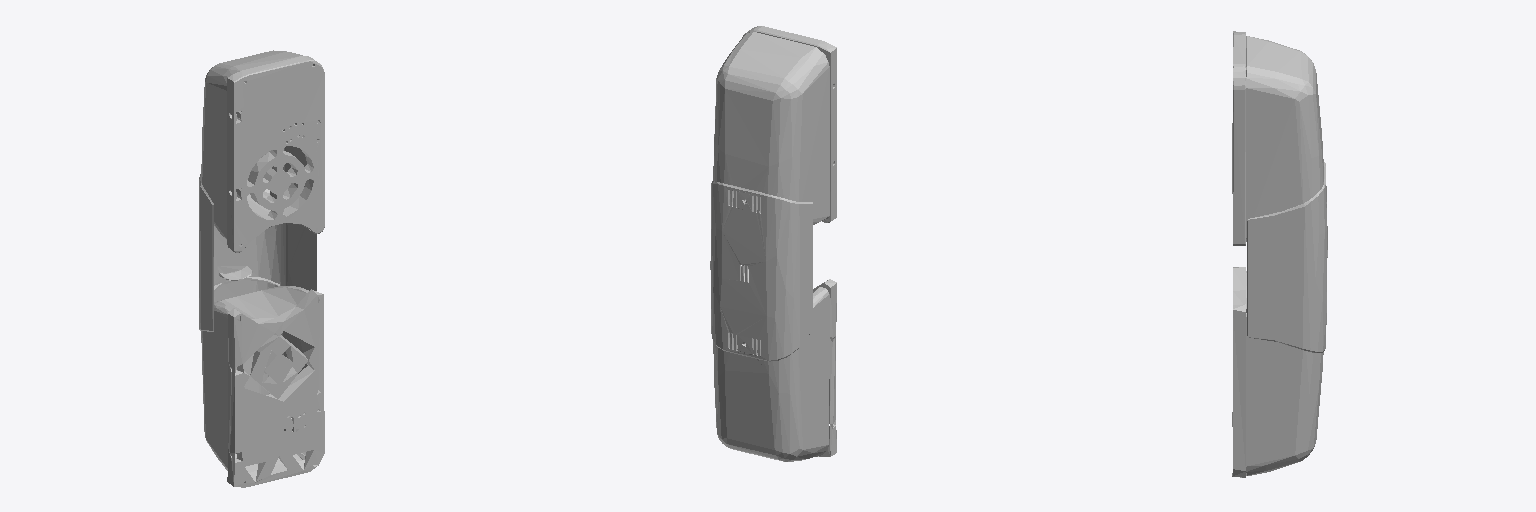
File: right_foam.obj
3 views of the same model, side by side, from view 1: azimuth 30°, elevation 25°; view 2: azimuth 150°, elevation 25°; view 3: azimuth 270°, elevation 25° (orthographic).
Parts seen in each view (by area): view 1: right_foam; view 2: right_foam; view 3: right_foam.
Boxes of the visible parts, <box> form: right_foam: <box>199,50,324,487</box>; right_foam: <box>710,26,836,461</box>; right_foam: <box>1232,31,1327,477</box>.
Bounding box in the file's own units: 0.0989 × 0.4267 × 0.0893.